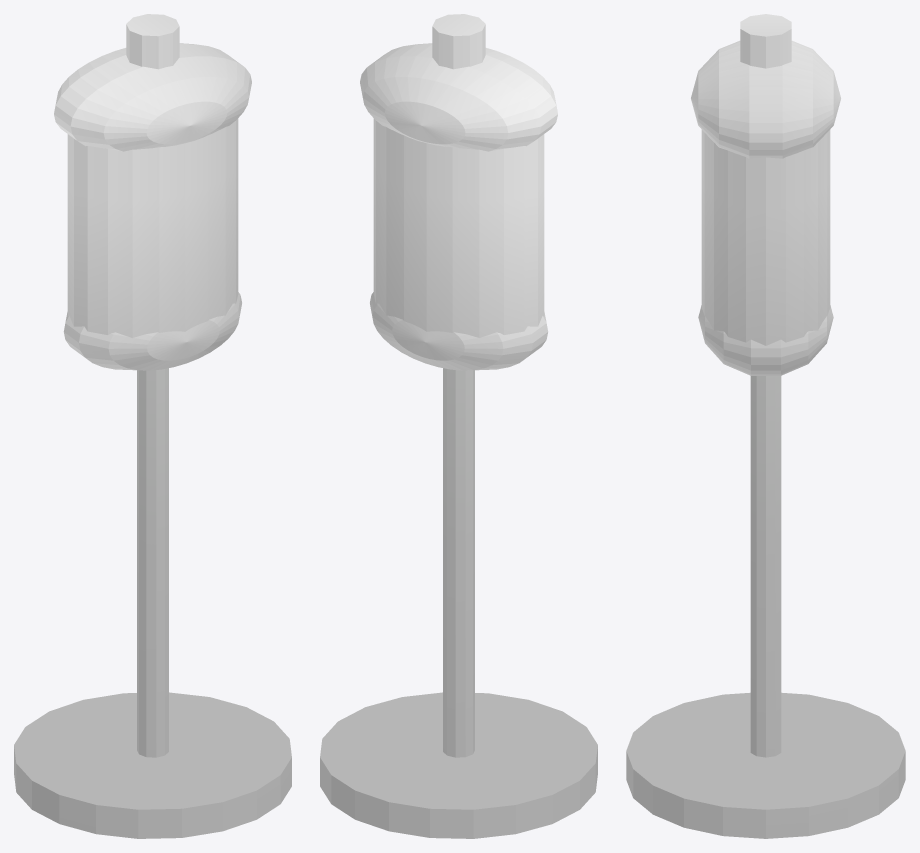
File: Building_Building_OutfitStand.glb
3 views of the same model, side by side, from view 1: azimuth 30°, elevation 25°; view 2: azimuth 150°, elevation 25°; view 3: azimuth 270°, elevation 25° (orthographic).
Visible parts, largest first — view 1: Building_OutfitStand; view 2: Building_OutfitStand; view 3: Building_OutfitStand.
Boxes of the visible parts, box(x1,y1,x2,y2) form: Building_OutfitStand: box(14, 14, 291, 838); Building_OutfitStand: box(320, 14, 597, 838); Building_OutfitStand: box(626, 14, 905, 838).
Size of the model in its own units: 0.52 by 1.55 by 0.52.
1 material, 1 textured.
